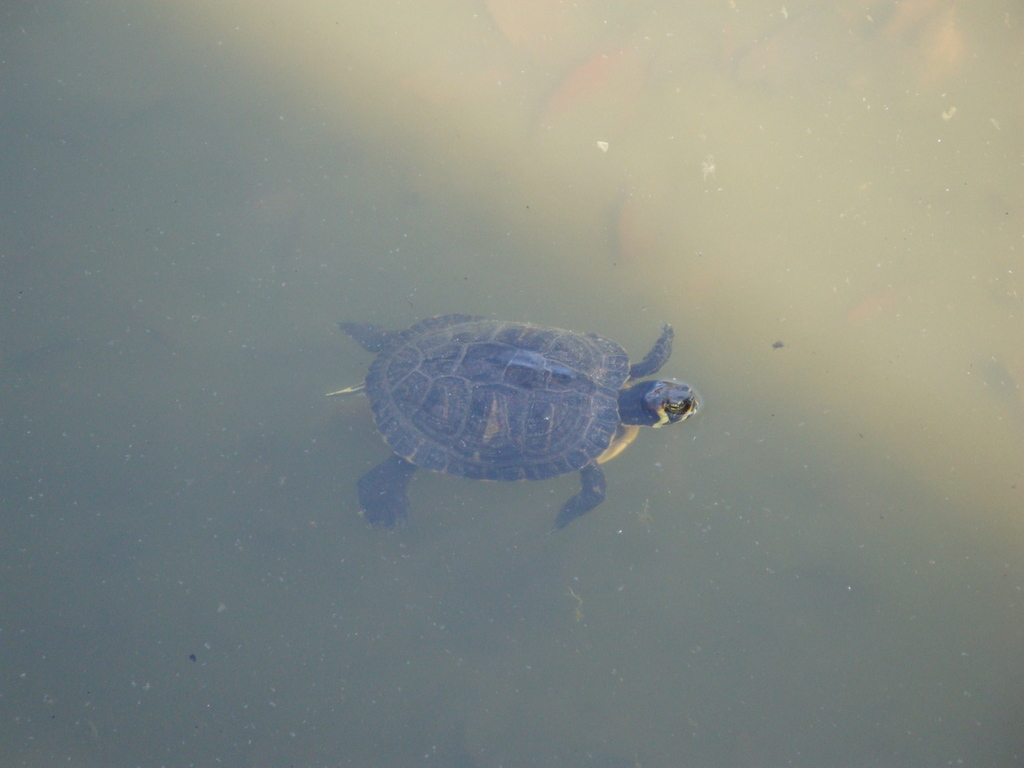Sea turtles: (340, 303, 716, 535)
